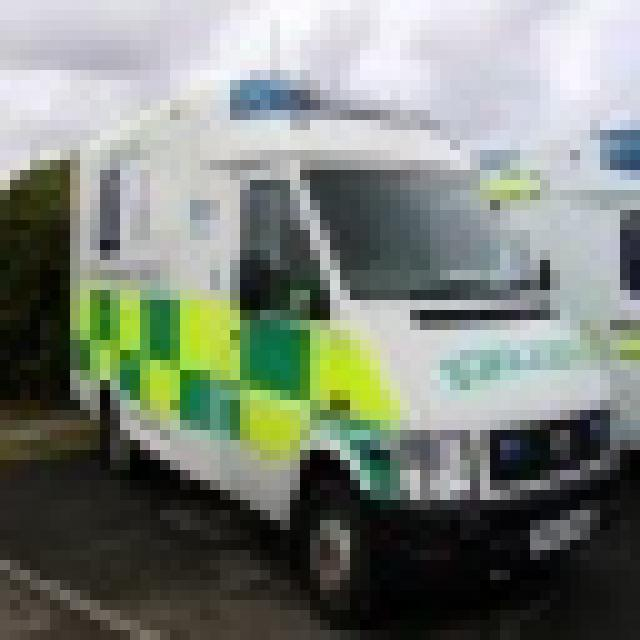Ambulance: (60, 60, 620, 620)
